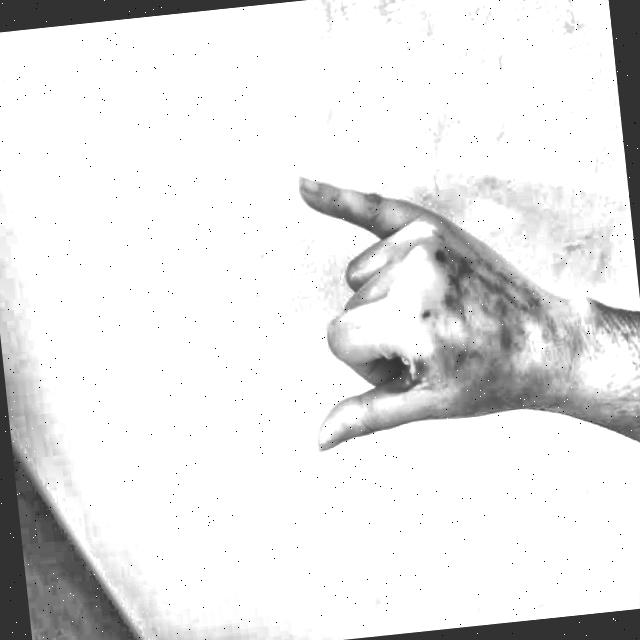Oi: (244, 113, 566, 491)
